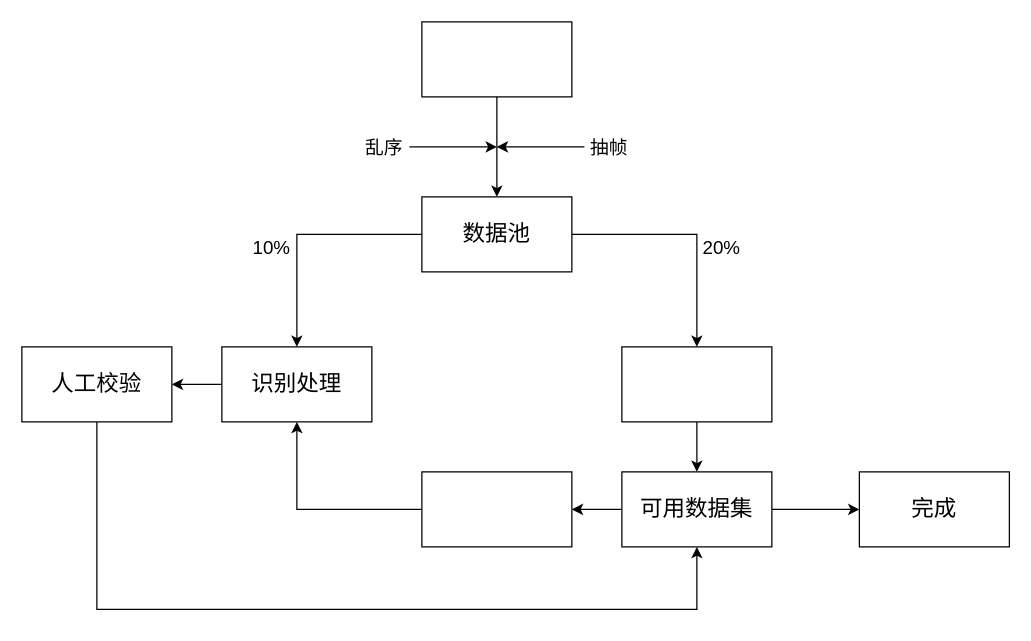
This 1031x641 diagram has some shape labels left out. Here are the shapes that lost their labels. From the top down, the centre of each, then its label:
At point (496, 59): "原始视频数据".
At point (696, 384): "手动标注 数据池".
At point (496, 509): "模型".
